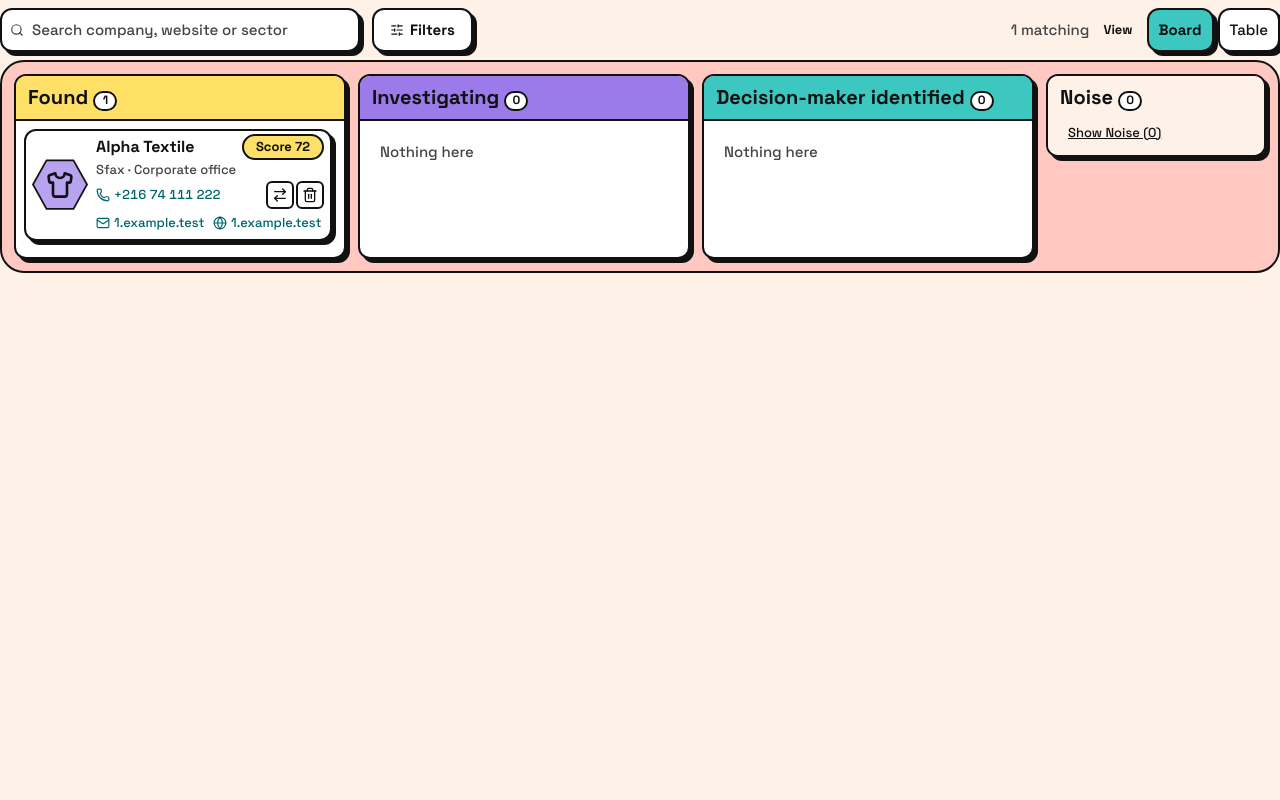
Test: Companies board › puts the card back and says why when the server refuses the move
Expected: the element "Alpha Textile" is shown, x1=24 y1=129 x2=332 y2=241
Click the button named "Move Alpha Textile to" at (280, 194), box x1=266 y1=180 x2=294 y2=208
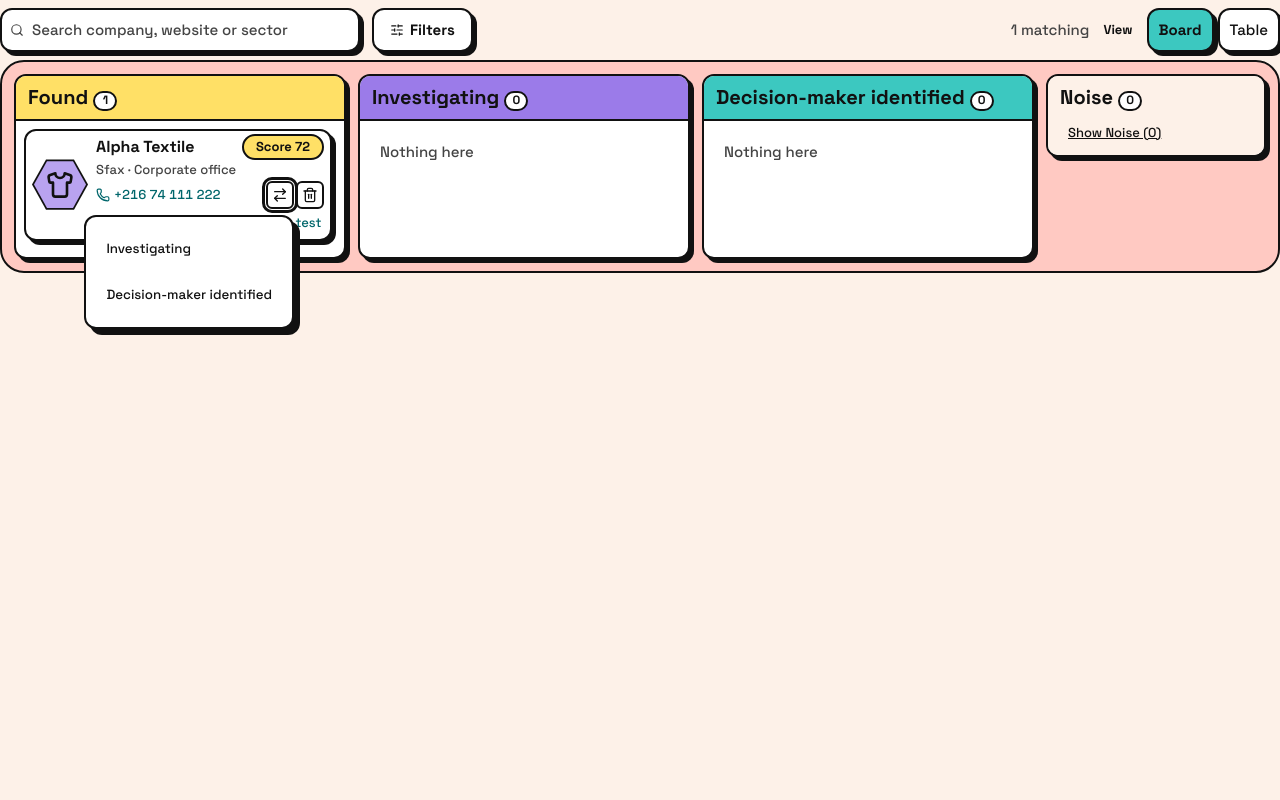
Click the button "Investigating" at (149, 248), box x1=98 y1=226 x2=199 y2=270
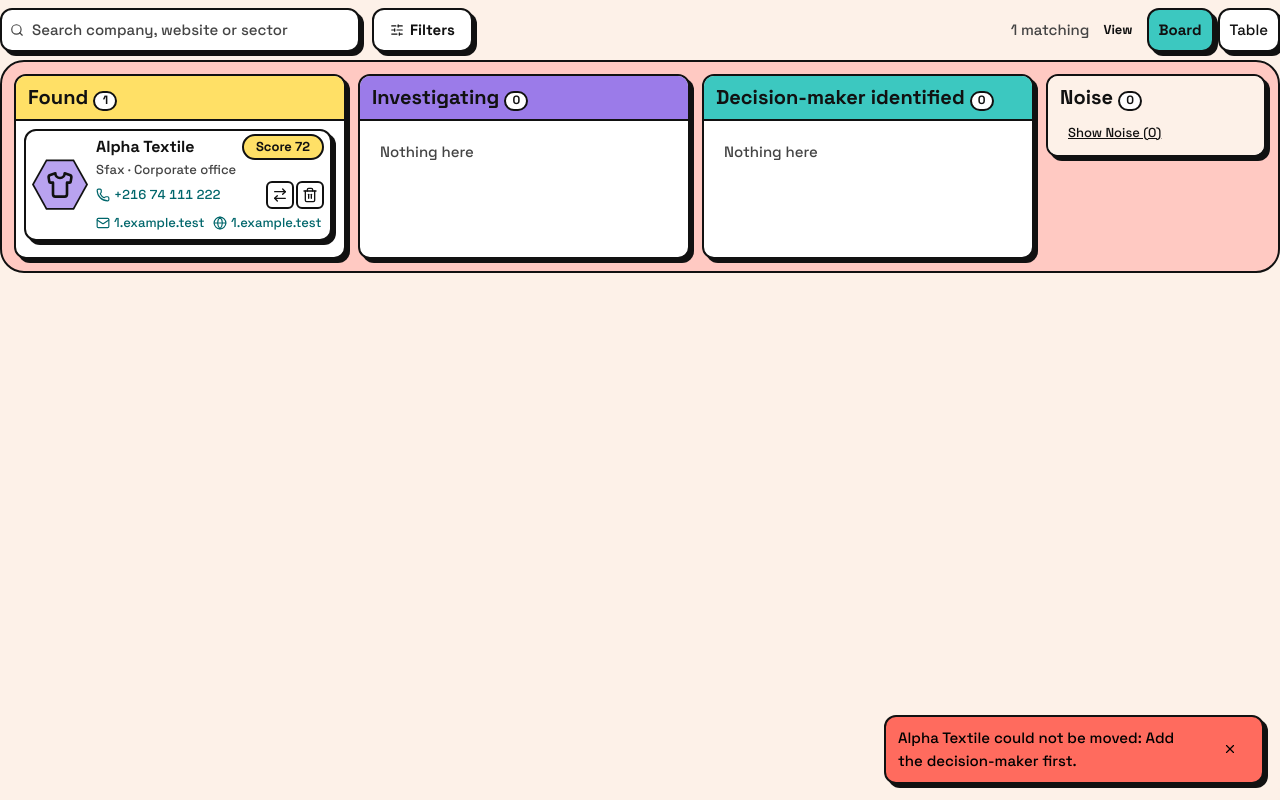
Expected: the heading "Alpha Textile" is shown, x1=96 y1=136 x2=194 y2=157
Now the text "Alpha Textile could not be moved: Add the decision-maker first." is shown, box x1=898 y1=727 x2=1202 y2=772
